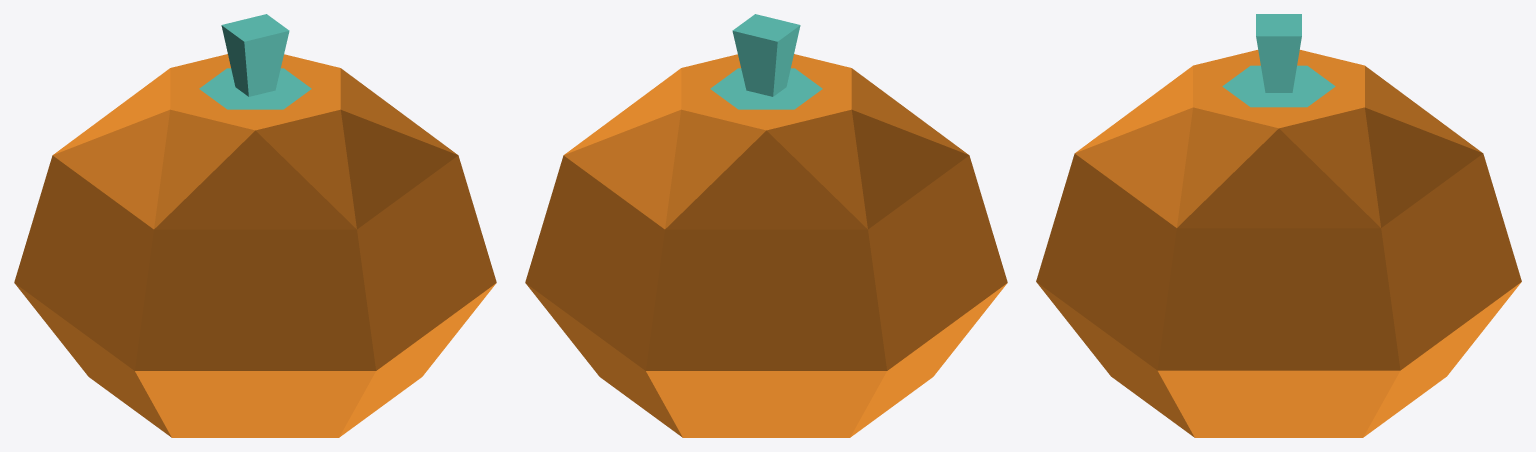
The model's file is pumpkin.obj.
The picture shows the model from 3 angles, left to right: view 1: azimuth 30°, elevation 25°; view 2: azimuth 150°, elevation 25°; view 3: azimuth 270°, elevation 25°; orthographic projection.
Visible parts, largest first — view 1: pumpkin; view 2: pumpkin; view 3: pumpkin.
Boxes of the visible parts, x1,y1,x2,y2 form: pumpkin: [14, 14, 496, 437]; pumpkin: [525, 14, 1007, 437]; pumpkin: [1036, 14, 1521, 437].
Bounding box in the file's own units: 2.94 × 2.71 × 3.4.
